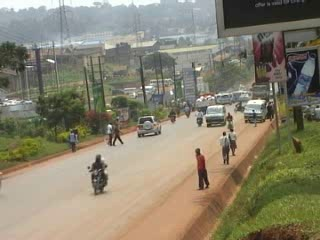Motorcycle: (84, 152, 111, 195), (182, 102, 193, 119), (167, 108, 177, 125), (194, 109, 204, 126), (232, 101, 246, 113)
